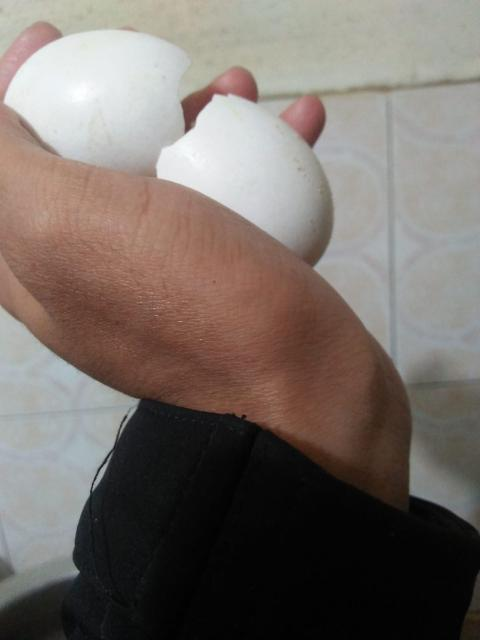Roto: (155, 91, 335, 268), (3, 27, 192, 177)
